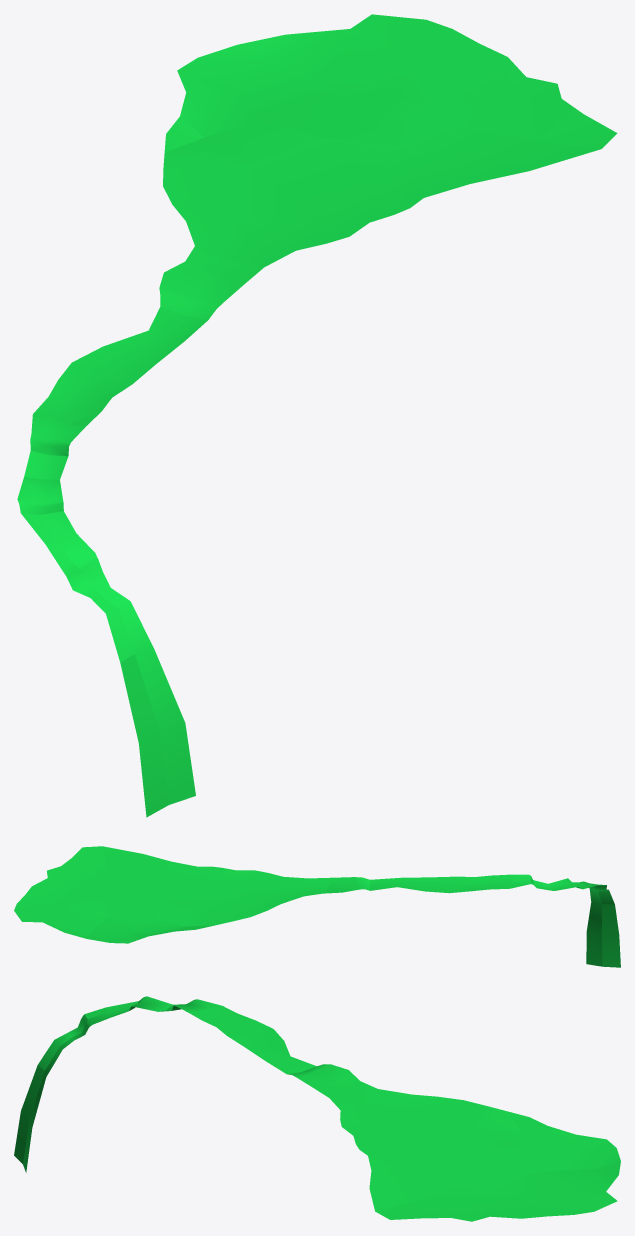
Rendered from cluster_14.fbx.
3 views of the same model, one above another, from view 1: azimuth 30°, elevation 25°; view 2: azimuth 150°, elevation 25°; view 3: azimuth 270°, elevation 25° (orthographic). The views are drawn at different scales.
Parts seen in each view (by area): view 1: cluster_14; view 2: cluster_14; view 3: cluster_14.
Boxes of the visible parts, left/top/right/bottom form: cluster_14: left=17, top=14, right=617, bottom=817; cluster_14: left=14, top=846, right=620, bottom=967; cluster_14: left=14, top=996, right=620, bottom=1221.
Bounding box in the file's own units: 536643 × 176173 × 562111.
